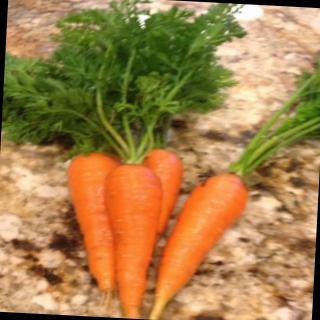Wortel: (153, 172, 249, 313), (98, 162, 165, 320)
